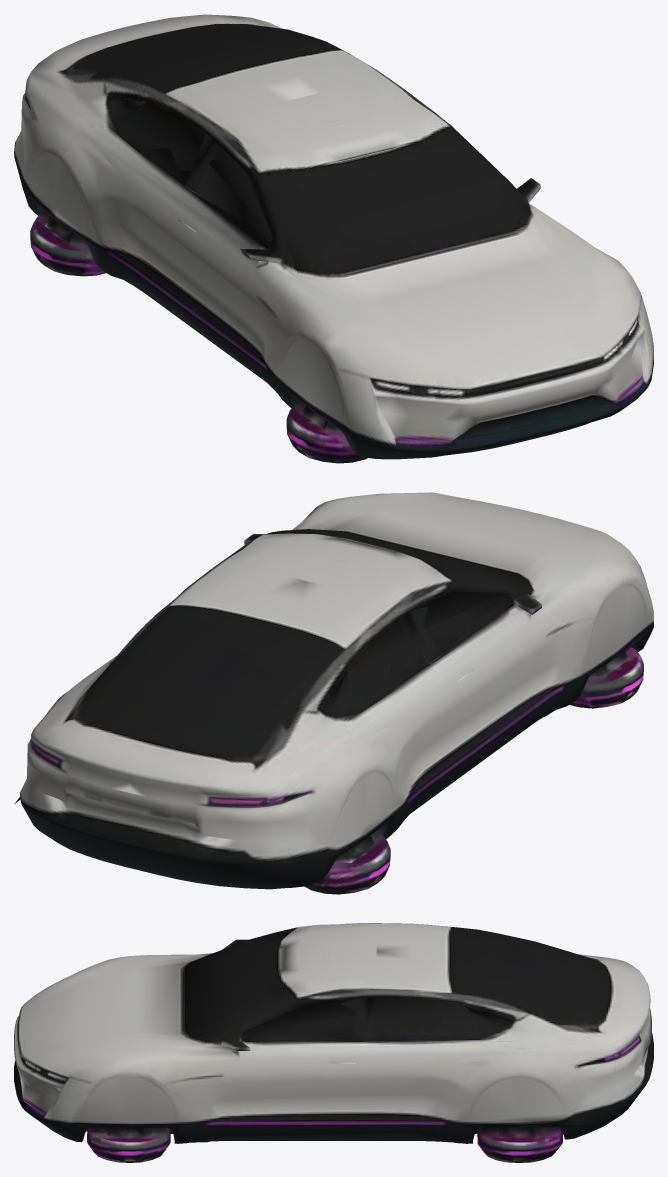
File: hover-sedan.glb
3 views of the same model, one above another, from view 1: azimuth 30°, elevation 25°; view 2: azimuth 150°, elevation 25°; view 3: azimuth 270°, elevation 25° (orthographic). The views are drawn at different scales.
Visible parts, largest first — view 1: material; view 2: material; view 3: material.
Boxes of the visible parts, x1,y1,x2,y2 form: material: (14, 14, 653, 463); material: (14, 492, 653, 894); material: (14, 923, 653, 1162).
Size of the model in its own units: 0.8933 by 0.4907 by 1.9.
Materials: 1 (1 with a texture image).
